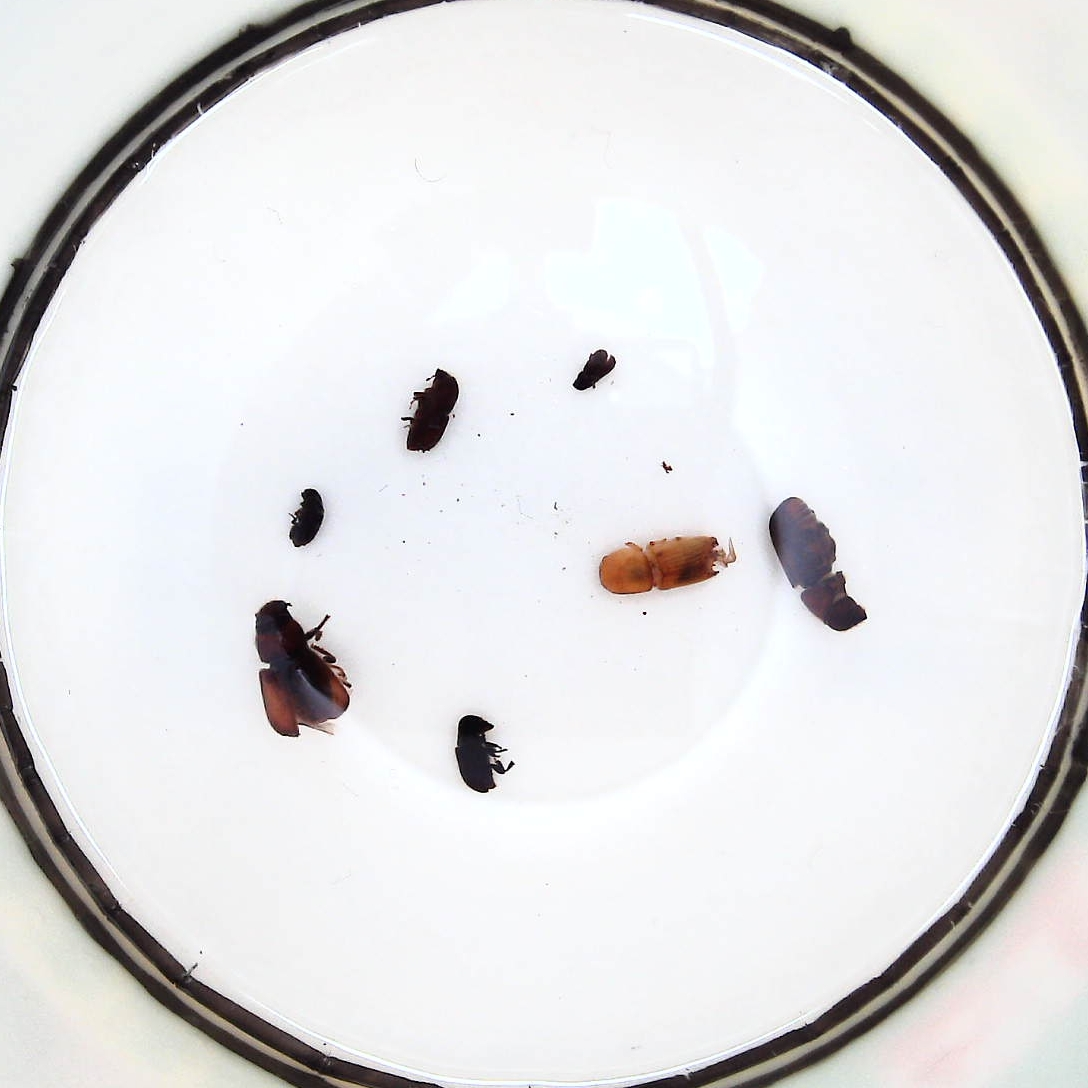Boerner: (599, 536, 720, 595)
Leconte: (768, 496, 867, 632), (254, 599, 350, 737)
acuminatus: (289, 487, 325, 547)
armandi: (456, 715, 499, 793)
coleoptera: (571, 348, 616, 391)
linnaeus: (406, 369, 460, 452)
